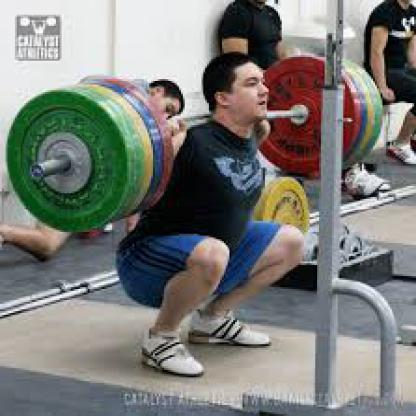Barbell: (4, 82, 152, 236)
